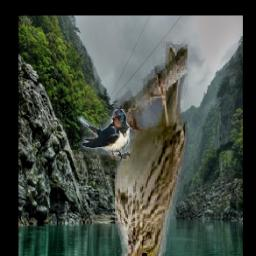Sparrow: (116, 42, 188, 256)
Swallow: (74, 109, 131, 160)
